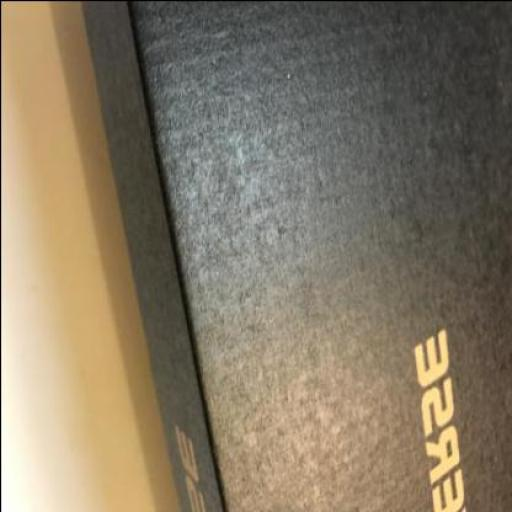cardboard: (82, 1, 511, 512)
